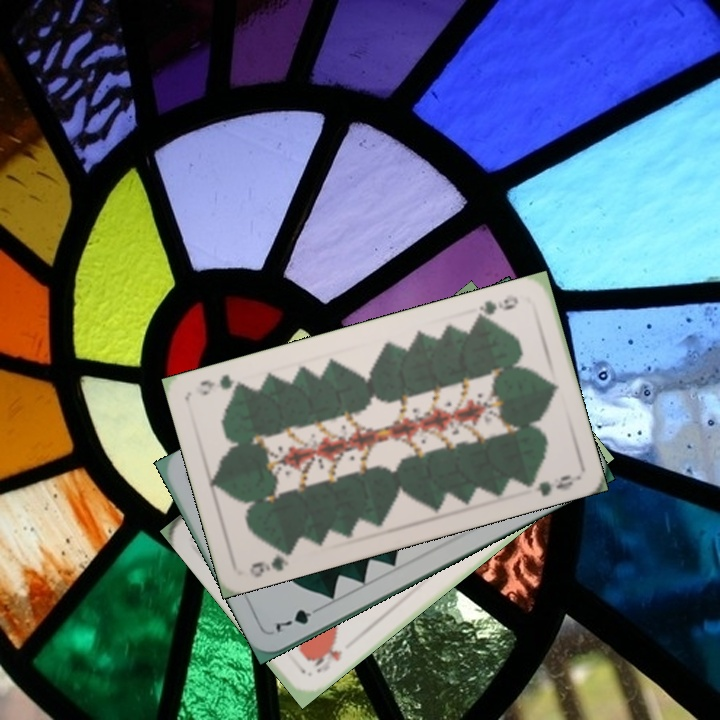G7: (271, 601, 326, 635)
G9: (245, 542, 297, 580), (471, 290, 521, 324)
HO: (308, 637, 345, 676)
